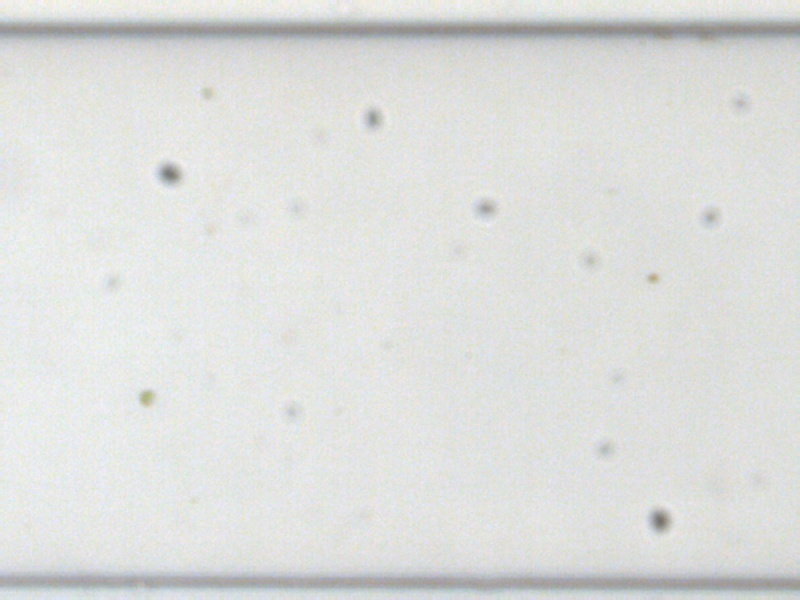Chlorella: (136, 388, 153, 406), (198, 84, 212, 99), (645, 271, 659, 284)
